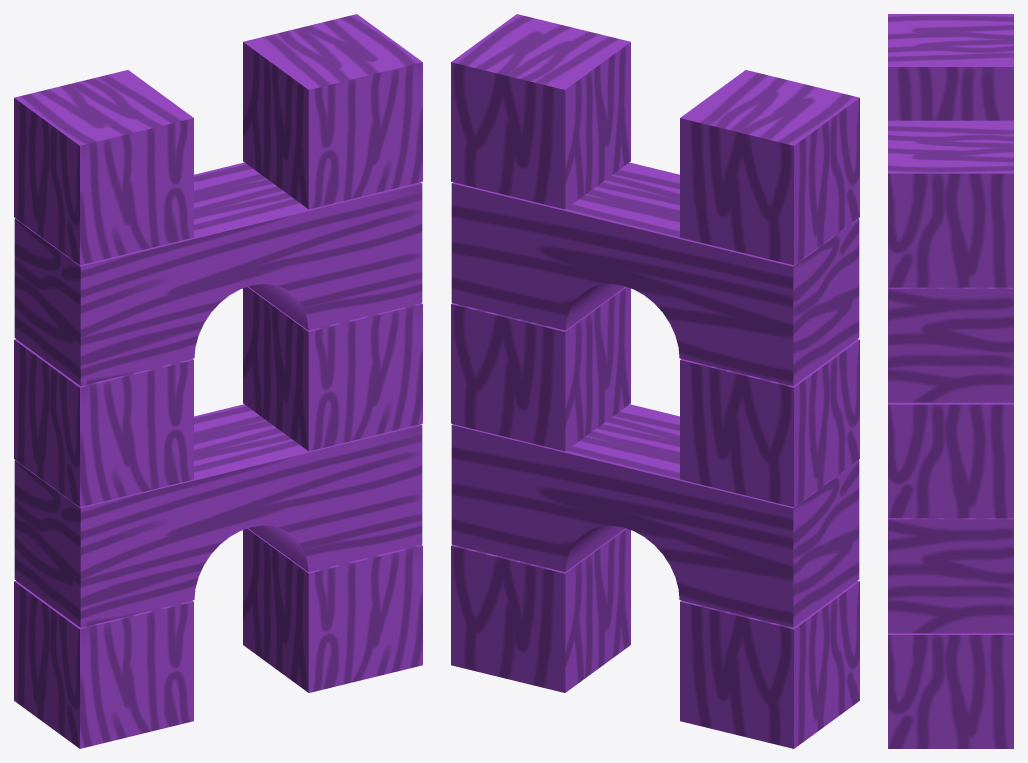
File: Level1-5.CubesAndBridges.fbx
The picture shows the model from 3 angles, left to right: view 1: azimuth 30°, elevation 25°; view 2: azimuth 150°, elevation 25°; view 3: azimuth 270°, elevation 25°; orthographic projection. The views are drawn at different scales.
Parts seen in each view (by area): view 1: Cube.004, Cube.001, Cube.008, Cube.007, Cube.002, Cube.005, Cube.003, Cube.006; view 2: Cube.004, Cube.001, Cube.008, Cube.007, Cube.002, Cube.005, Cube.003, Cube.006; view 3: Cube.008, Cube.006, Cube.001, Cube.003, Cube.004, Cube.007.
Boxes of the visible parts, box(x1,y1,x2,y2) form: Cube.004: box(14, 162, 422, 385); Cube.001: box(14, 404, 422, 627); Cube.008: box(243, 14, 422, 209); Cube.007: box(14, 70, 193, 265); Cube.002: box(14, 581, 193, 748); Cube.005: box(14, 339, 193, 507); Cube.003: box(243, 528, 422, 692); Cube.006: box(243, 286, 422, 451); Cube.004: box(451, 162, 859, 385); Cube.001: box(451, 404, 859, 627); Cube.008: box(451, 14, 630, 209); Cube.007: box(680, 70, 859, 265); Cube.002: box(680, 581, 859, 748); Cube.005: box(680, 339, 859, 507); Cube.003: box(451, 528, 630, 692); Cube.006: box(451, 286, 630, 451); Cube.008: box(888, 120, 1013, 287); Cube.006: box(888, 402, 1013, 518); Cube.001: box(888, 518, 1013, 633); Cube.003: box(888, 633, 1013, 748); Cube.004: box(888, 287, 1013, 402); Cube.007: box(888, 14, 1013, 120).
Bounding box in the file's own units: 601 × 1010 × 200.
